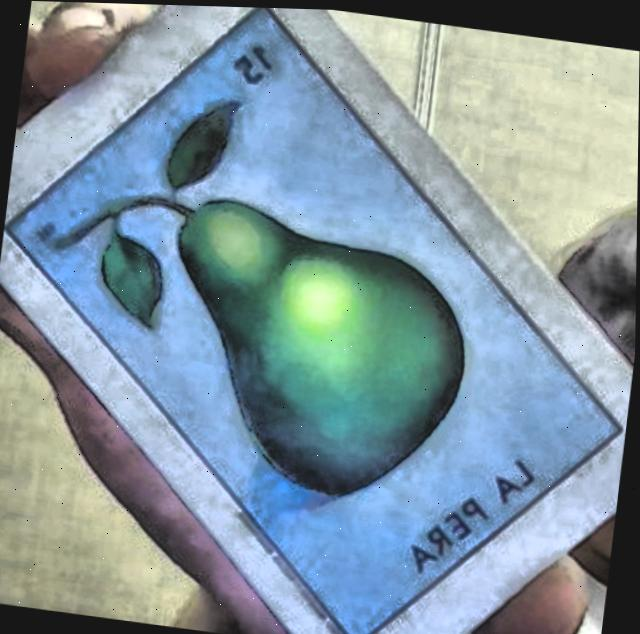La Pera: (7, 6, 620, 634)
